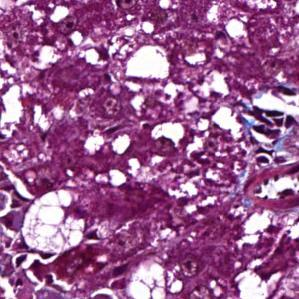ballooning: (19, 184, 89, 256), (122, 255, 186, 299)
